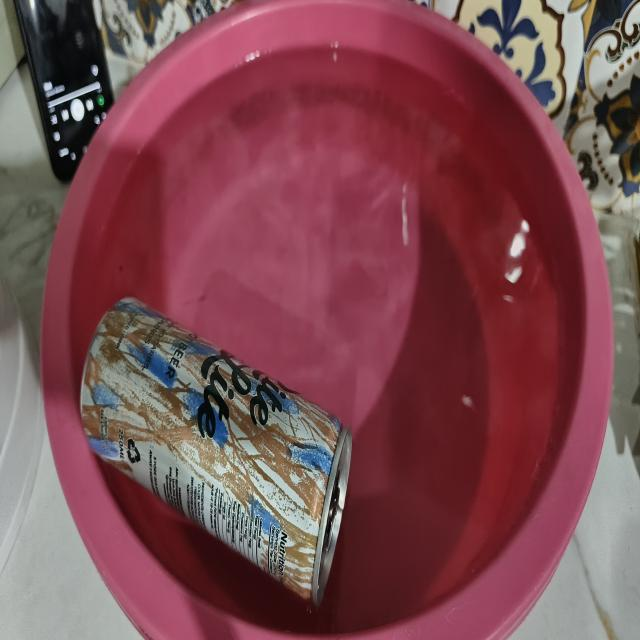Aluminum Can: (81, 298, 351, 605)
